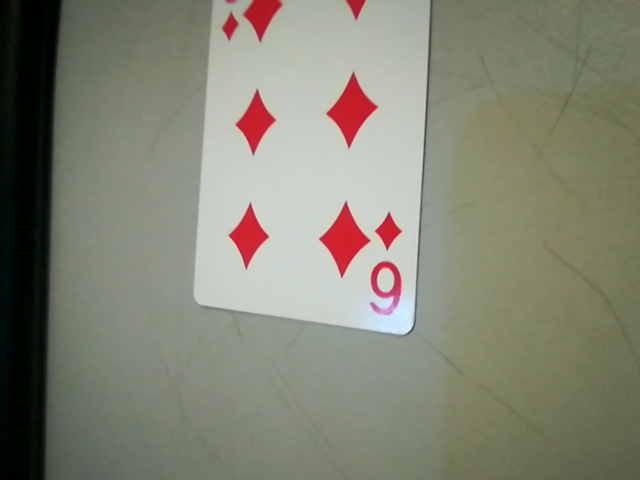fk 6: (362, 207, 415, 328)
